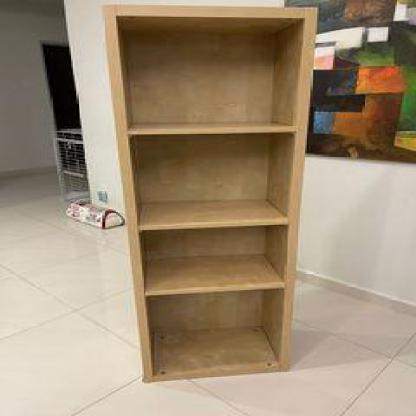lamp: (102, 2, 320, 387)
